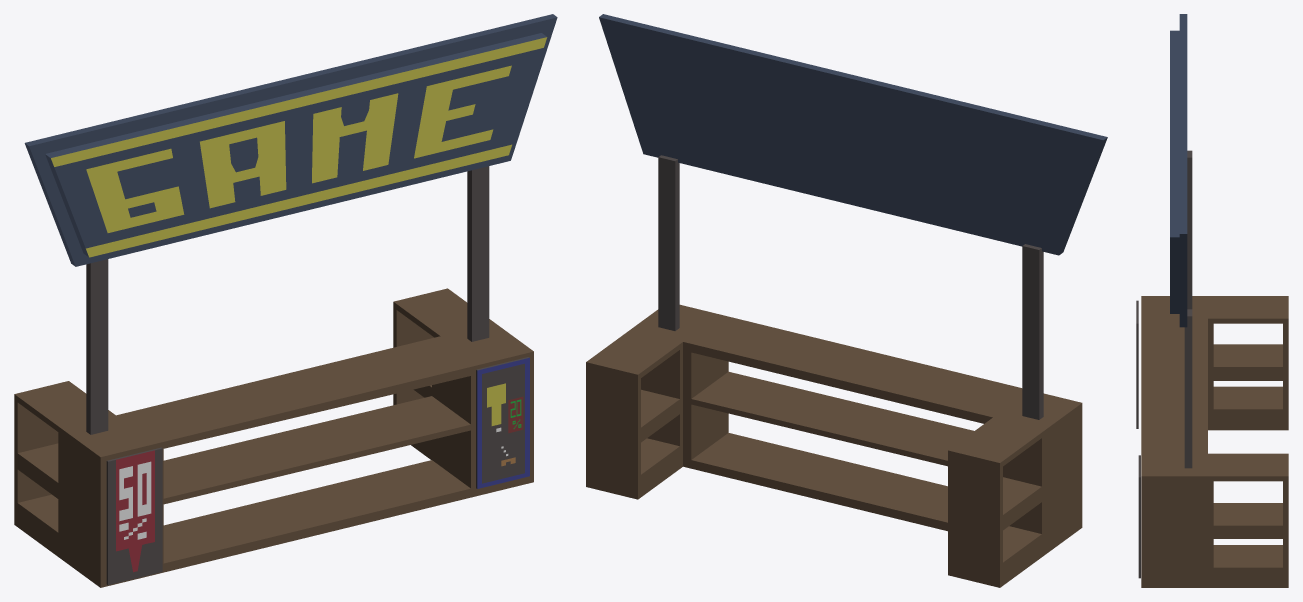
Rendered from Mesa VDJ Mediana.fbx.
3 renders of one model, left to right at view 1: azimuth 30°, elevation 25°; view 2: azimuth 150°, elevation 25°; view 3: azimuth 270°, elevation 25°, orthographic. The views are drawn at different scales.
Parts seen in each view (by area): view 1: Estante_M, Letrero_Vdj_2, Letrero_Vdj_4, Letrero_Vdj_3, Palo_2, Palo_1; view 2: Estante_M, Letrero_Vdj_2, Palo_1, Palo_2; view 3: Estante_M, Letrero_Vdj_2, Palo_2, Palo_1, Letrero_Vdj_4, Letrero_Vdj_3.
Boxes of the visible parts, x1,y1,x2,y2 form: Estante_M: [14, 288, 533, 587]; Letrero_Vdj_2: [24, 14, 557, 266]; Letrero_Vdj_4: [106, 447, 162, 585]; Letrero_Vdj_3: [476, 357, 529, 488]; Palo_2: [467, 166, 489, 341]; Palo_1: [86, 259, 108, 434]; Estante_M: [586, 304, 1082, 587]; Letrero_Vdj_2: [599, 14, 1107, 255]; Palo_1: [1022, 244, 1043, 419]; Palo_2: [658, 155, 679, 330]; Estante_M: [1141, 296, 1288, 587]; Letrero_Vdj_2: [1170, 14, 1187, 327]; Palo_2: [1184, 309, 1192, 468]; Palo_1: [1187, 150, 1192, 309]; Letrero_Vdj_4: [1136, 300, 1138, 428]; Letrero_Vdj_3: [1138, 455, 1140, 578].
Bounding box in the file's own units: 6.19 × 4.89 × 1.81.
